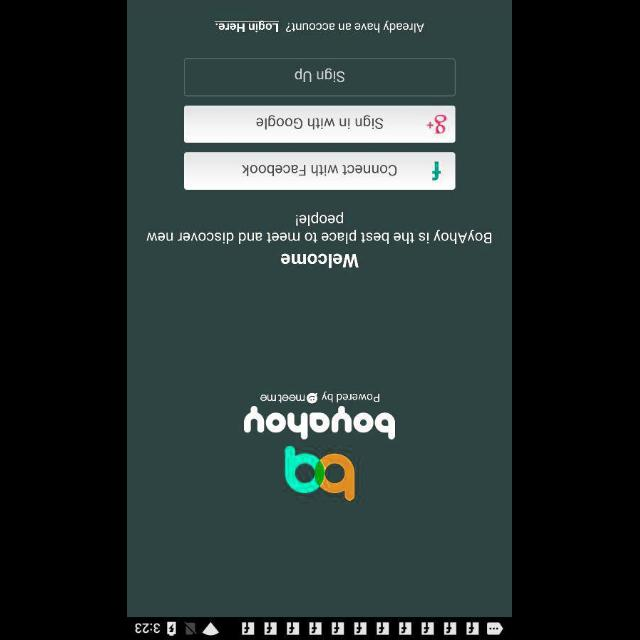image: (244, 390, 396, 502)
text: (148, 212, 492, 244), (215, 21, 425, 34), (280, 253, 360, 269)
textbutton: (184, 152, 456, 190), (184, 58, 456, 96), (184, 106, 456, 142)
uppertaskbar: (128, 617, 512, 639)
